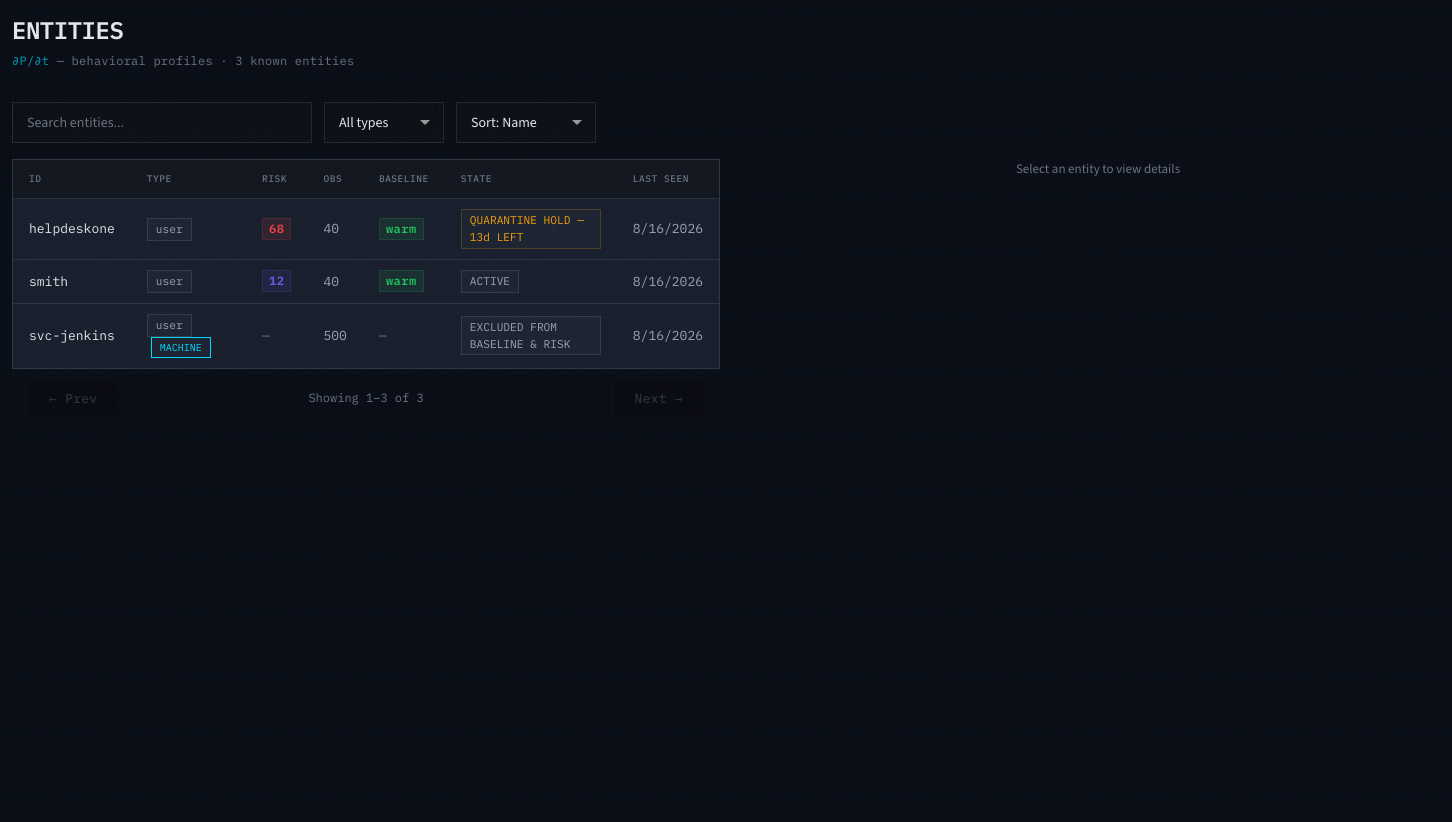
Test: Entities page — Phase 2 states (mockup 04) › shows the quarantine panel in the held entity detail
Expected: the text "QUARANTINE HOLD — 13d LEFT" is shown, [461,209,601,249]
Click the text "helpdeskone" at (72, 229), box [13,199,131,260]
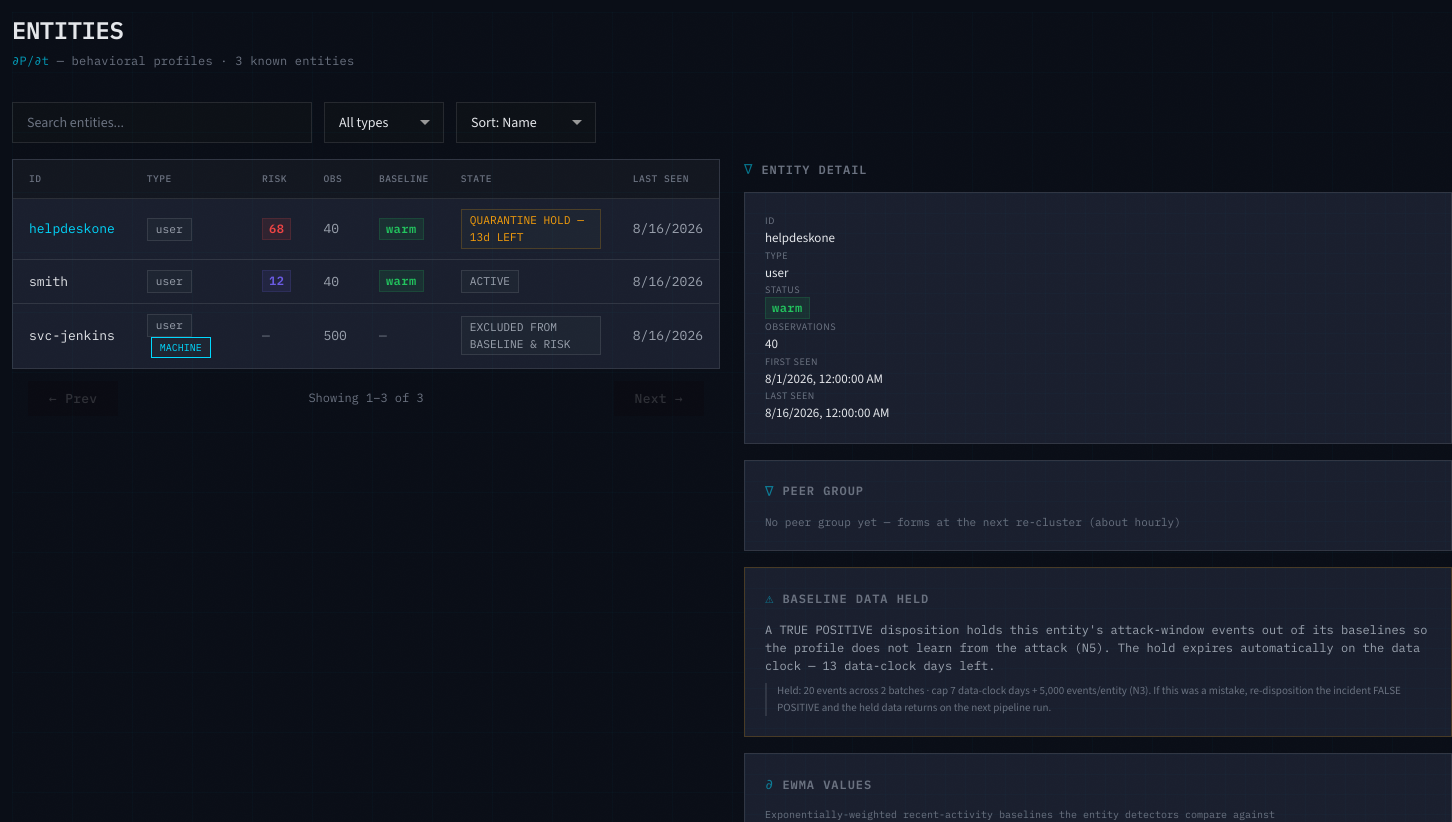
Result: the text "BASELINE DATA HELD" is shown at [782,590,929,606]
Result: the text "20 events across 2 batches" is shown at [765,683,1431,716]
